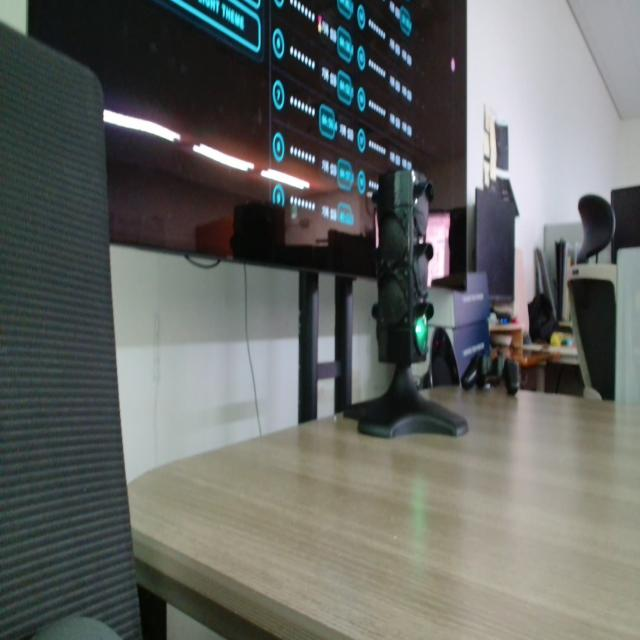green_light: (414, 315, 428, 354)
